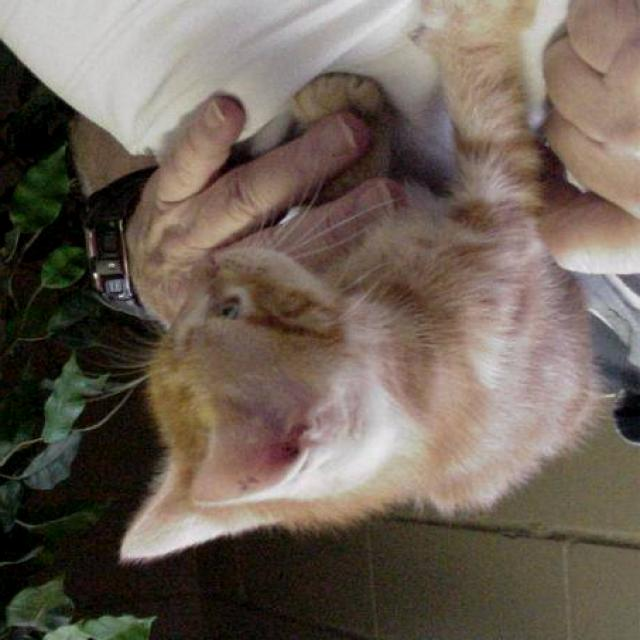Kucing: (73, 83, 634, 584)
